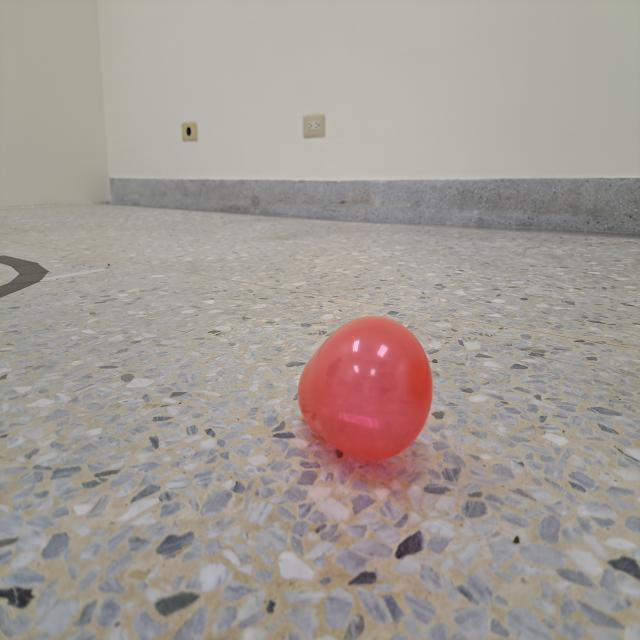red: (294, 313, 435, 463)
